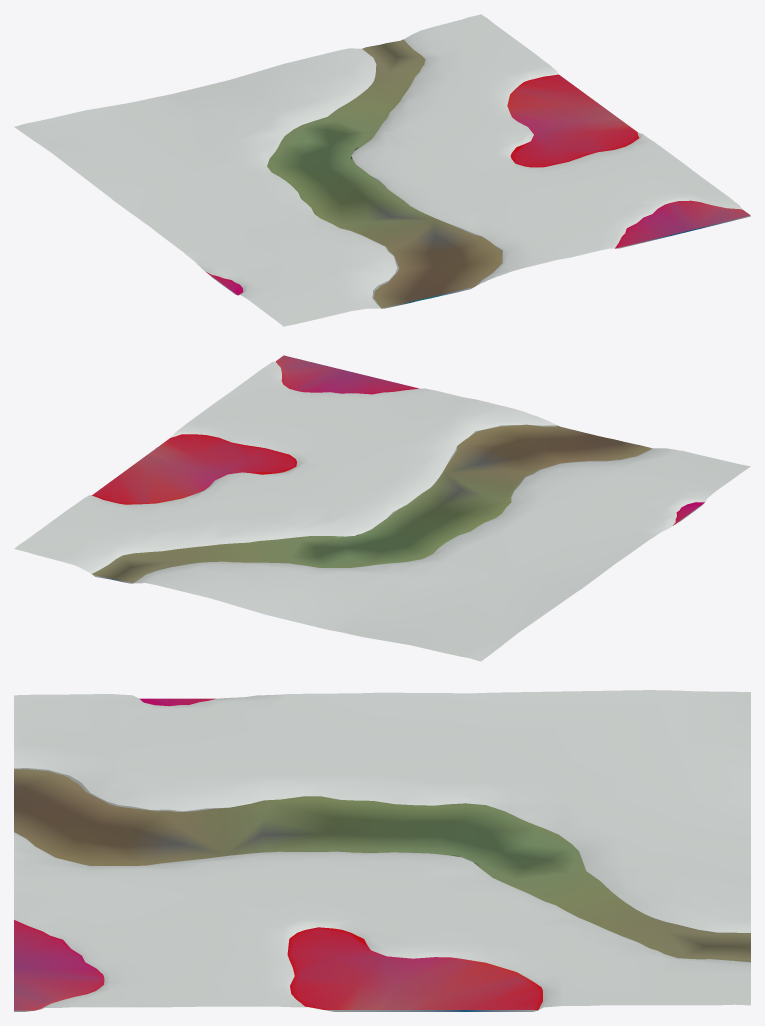
The picture shows the model from 3 angles, top to bottom: view 1: azimuth 30°, elevation 25°; view 2: azimuth 150°, elevation 25°; view 3: azimuth 270°, elevation 25°; orthographic projection. The views are drawn at different scales.
Parts seen in each view (by area): view 1: G:\FFXIV-MapTools\exports\r2f1\bg\ex1\01_roc_r2\fld\r2f1\bgp (×3); view 2: G:\FFXIV-MapTools\exports\r2f1\bg\ex1\01_roc_r2\fld\r2f1\bgp (×3); view 3: G:\FFXIV-MapTools\exports\r2f1\bg\ex1\01_roc_r2\fld\r2f1\bgp (×3).
Boxes of the visible parts, x1,y1,x2,y2 form: G:\FFXIV-MapTools\exports\r2f1\bg\ex1\01_roc_r2\fld\r2f1\bgp (×3): [14, 14, 750, 326]; G:\FFXIV-MapTools\exports\r2f1\bg\ex1\01_roc_r2\fld\r2f1\bgp (×3): [14, 355, 750, 661]; G:\FFXIV-MapTools\exports\r2f1\bg\ex1\01_roc_r2\fld\r2f1\bgp (×3): [14, 690, 750, 1010].
Size of the model in its own units: 128 by 3.12 by 128.
